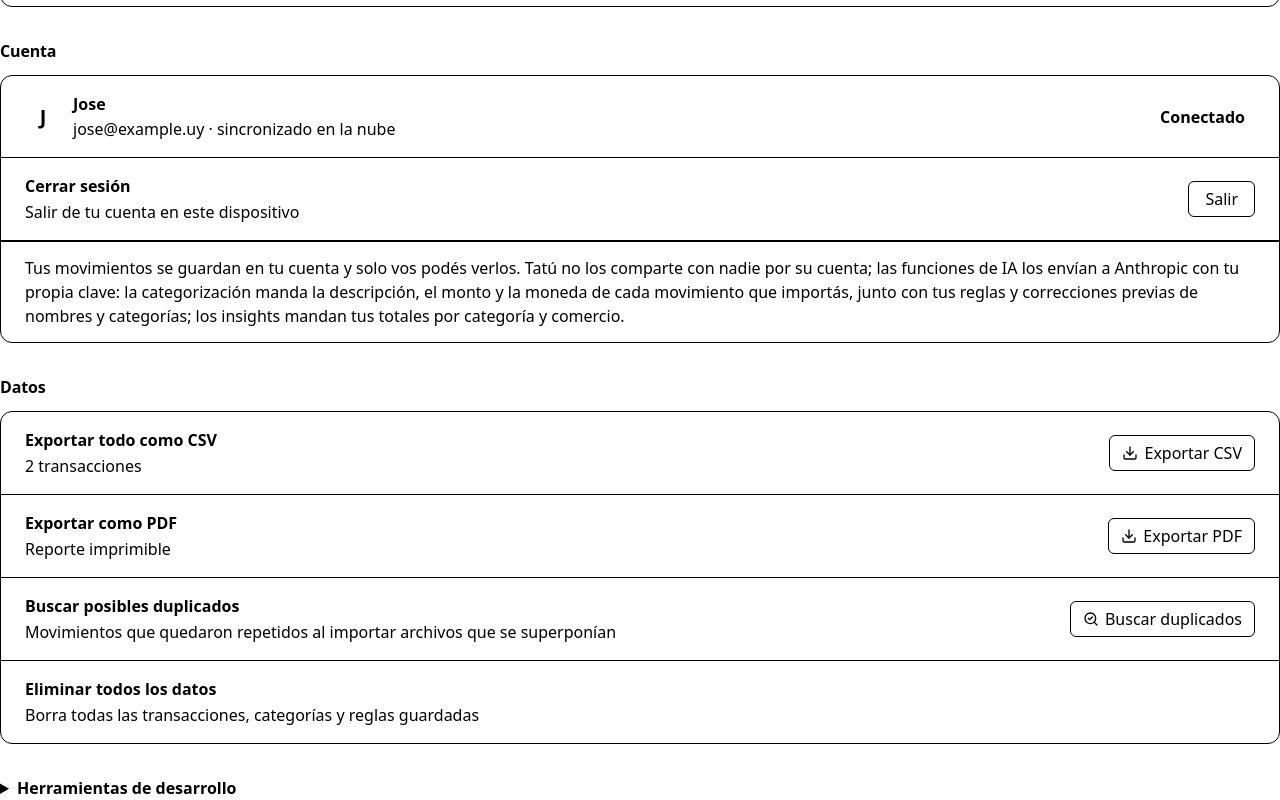
Configuración → Datos: Buscar posibles duplicados (#167) › keeps the review open and never shows raw error text
(page scrolled)
Click the button "Buscar duplicados". click: (1162, 619)
box: [1070,601,1255,637]
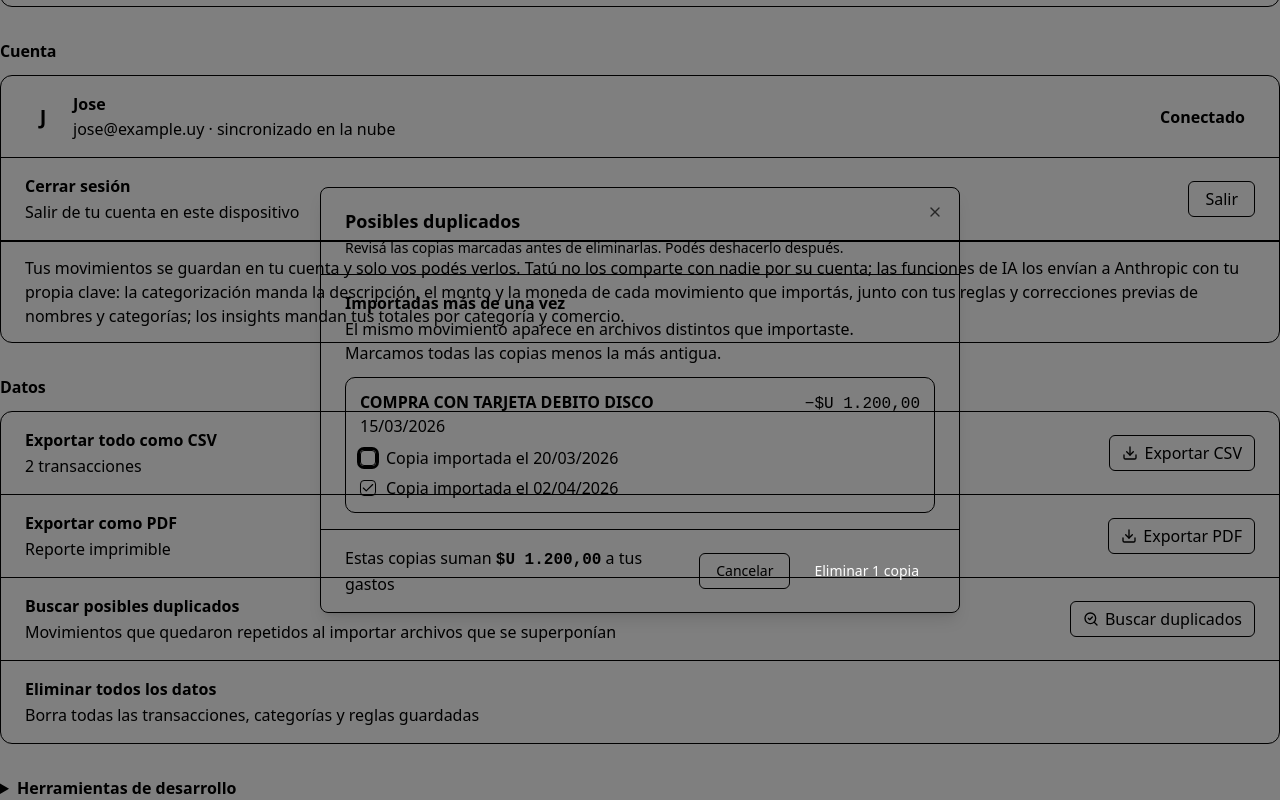
Click the button "Eliminar 1 copia". click: (867, 571)
box: [798,553,935,589]
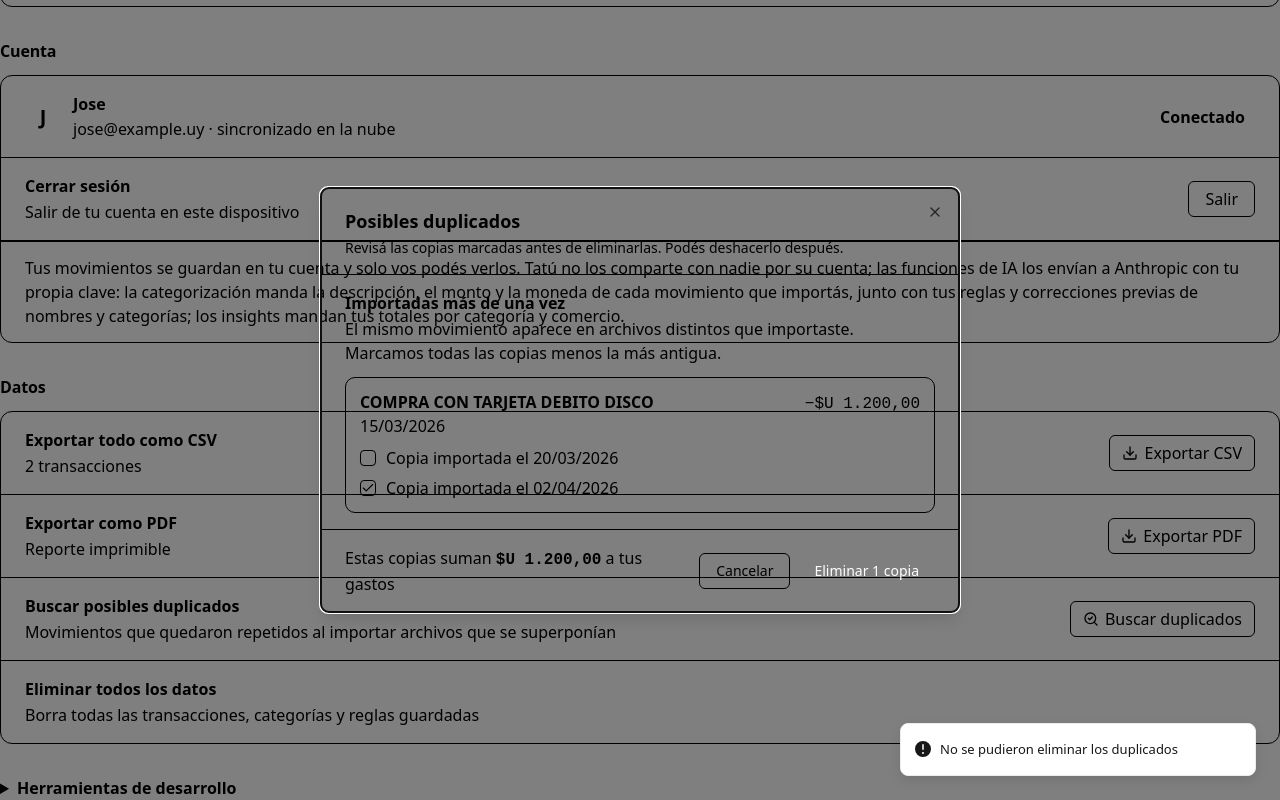
Result: the dialog "Posibles duplicados" is shown at [320,187,960,613]
Result: the text "No se pudieron eliminar los duplicados" is shown at [940,740,1178,759]
